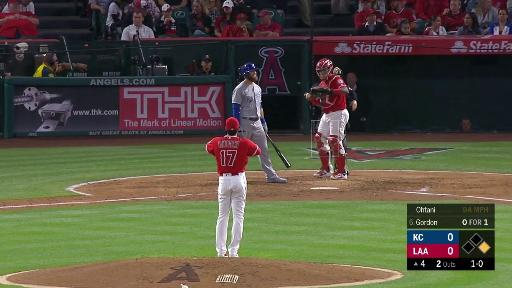pitcher: (205, 117, 261, 257)
